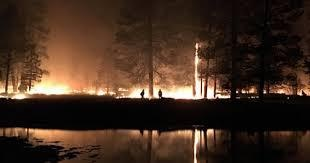fire: (193, 128, 202, 159)
